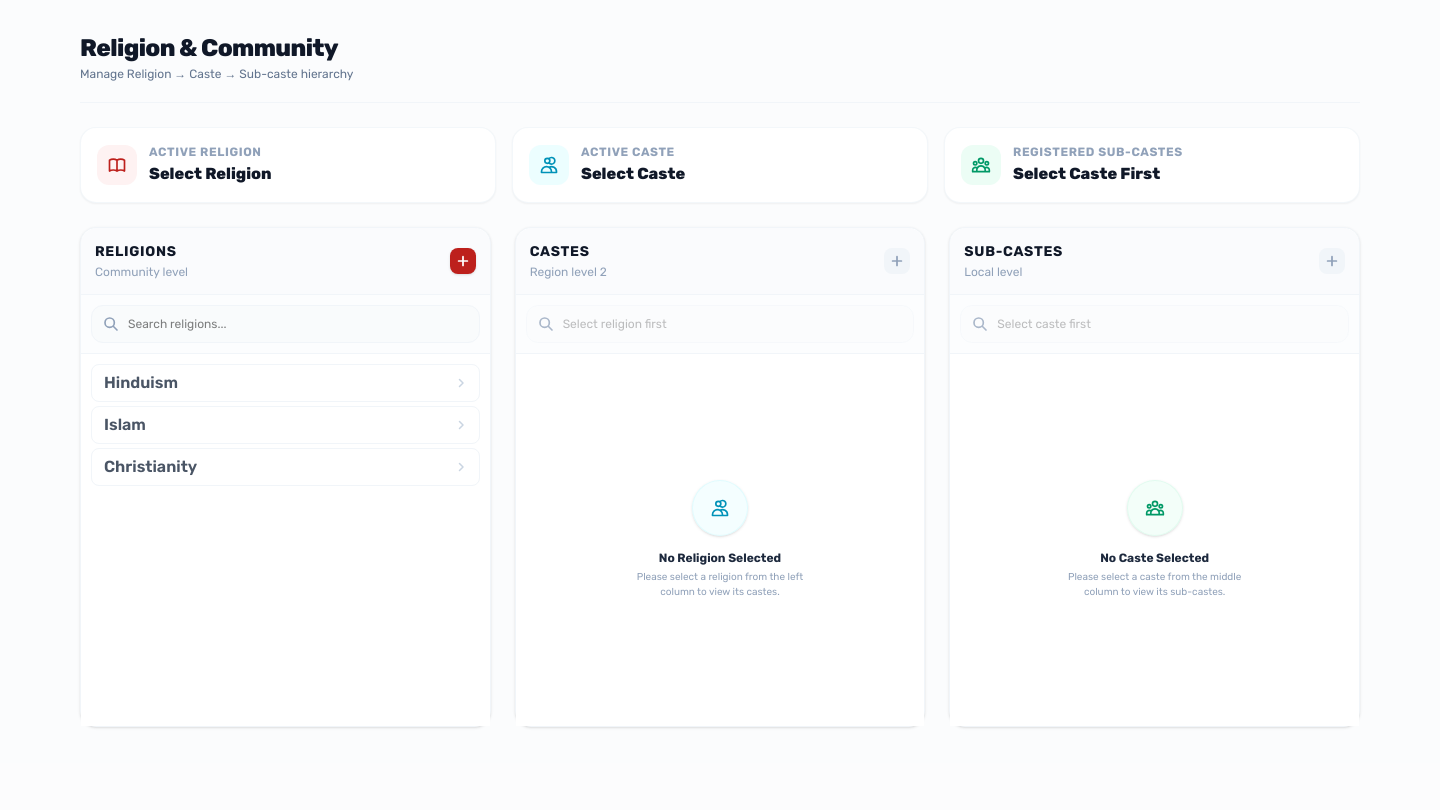
ReligionManagement Component › User Interactions › should show castes when a religion is selected
Click the text "Hinduism". click: {"x": 141, "y": 383}
box: [104,371,178,395]
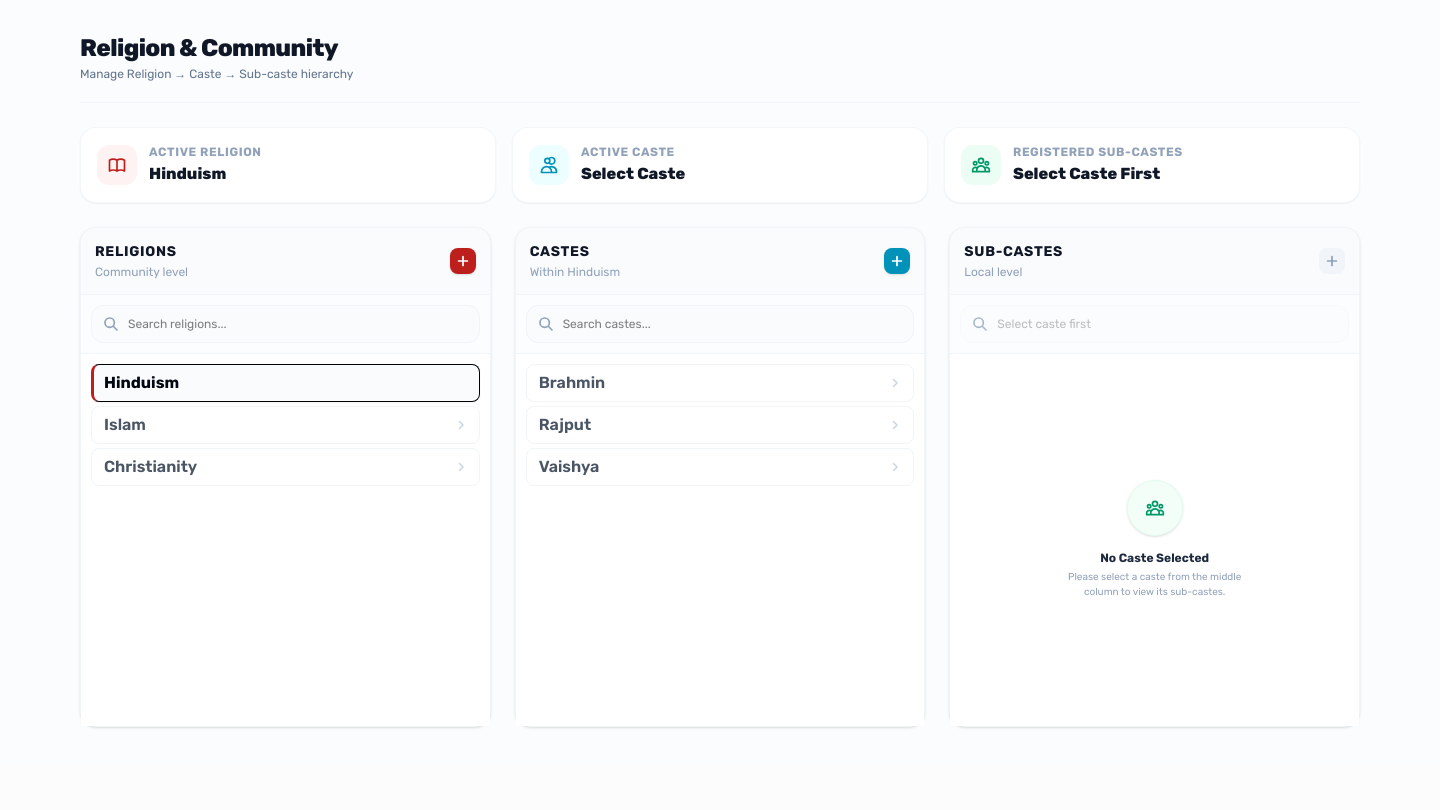
Now the text "Brahmin" is shown, box [539,371,605,395]
Now the text "Rajput" is shown, box [539,413,591,437]
Now the text "Vaishya" is shown, box [539,455,599,479]
